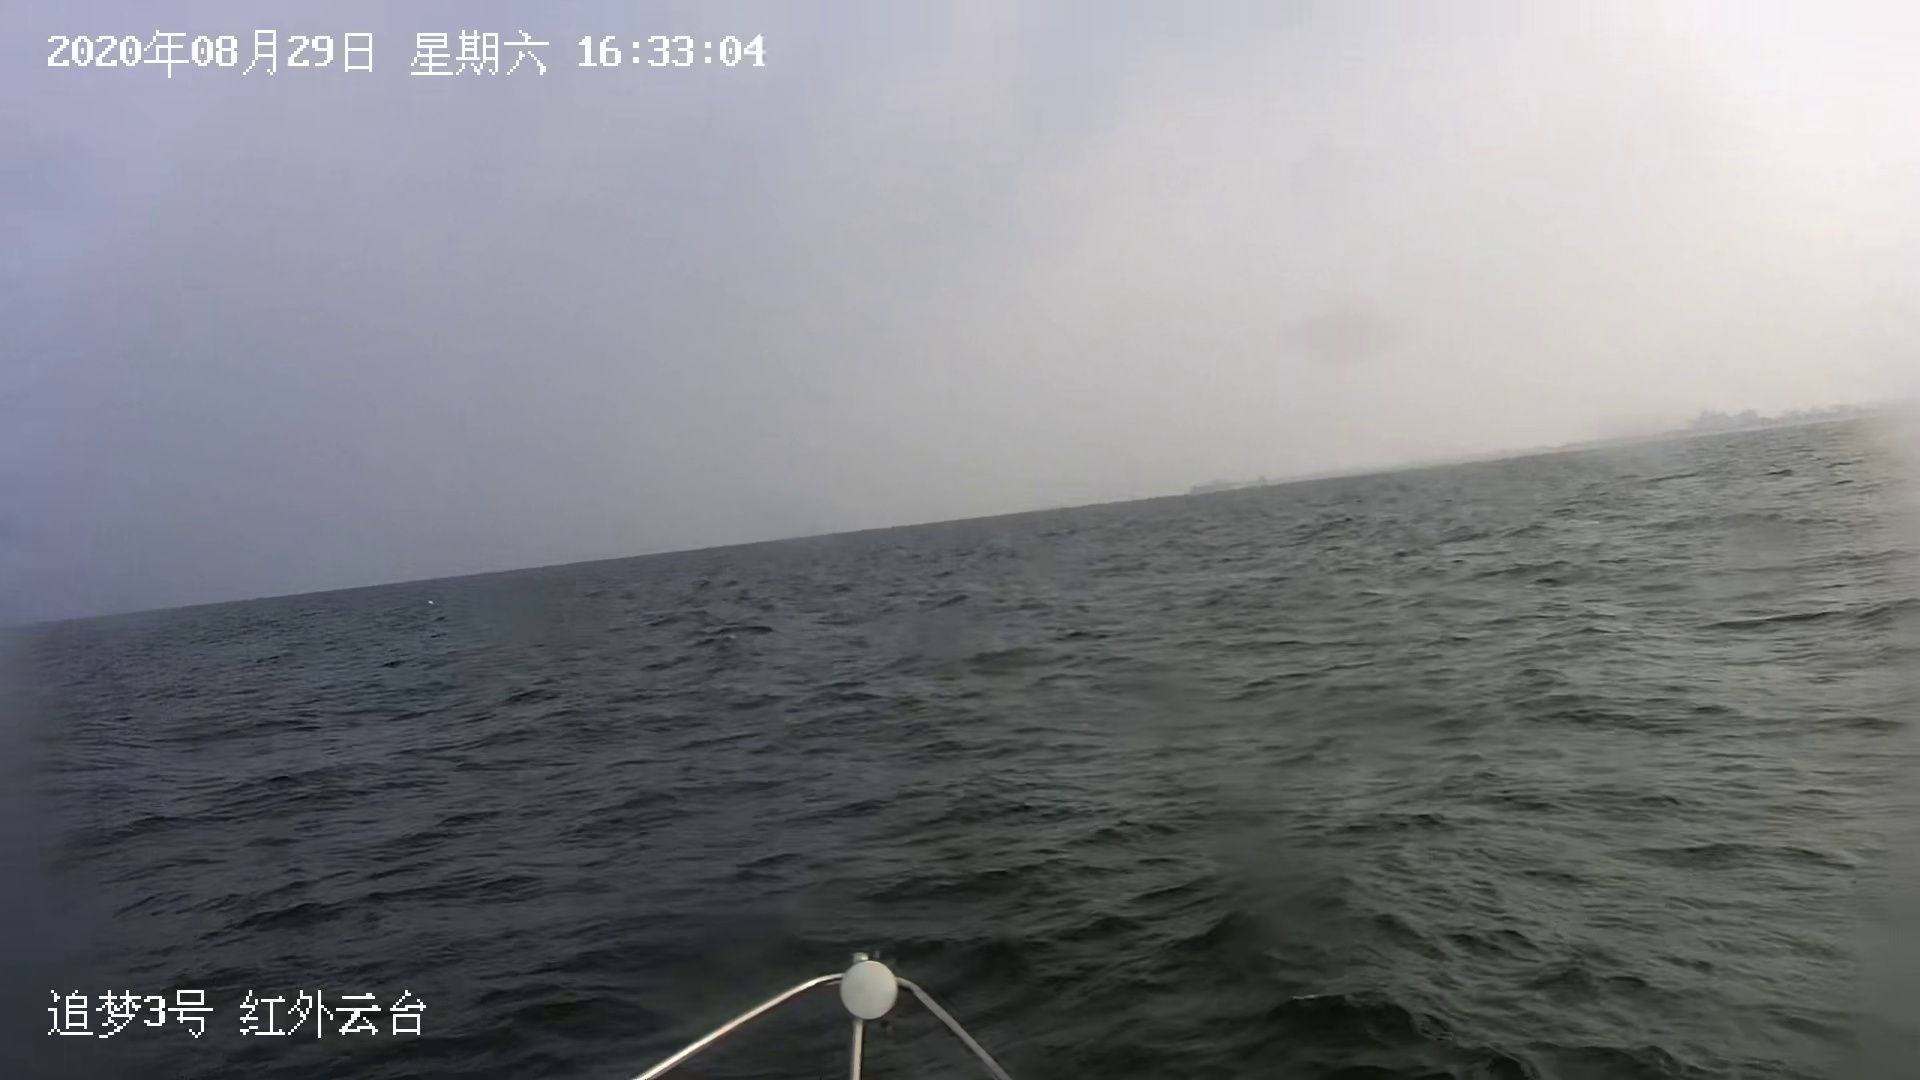coast: (1193, 404, 1920, 498)
